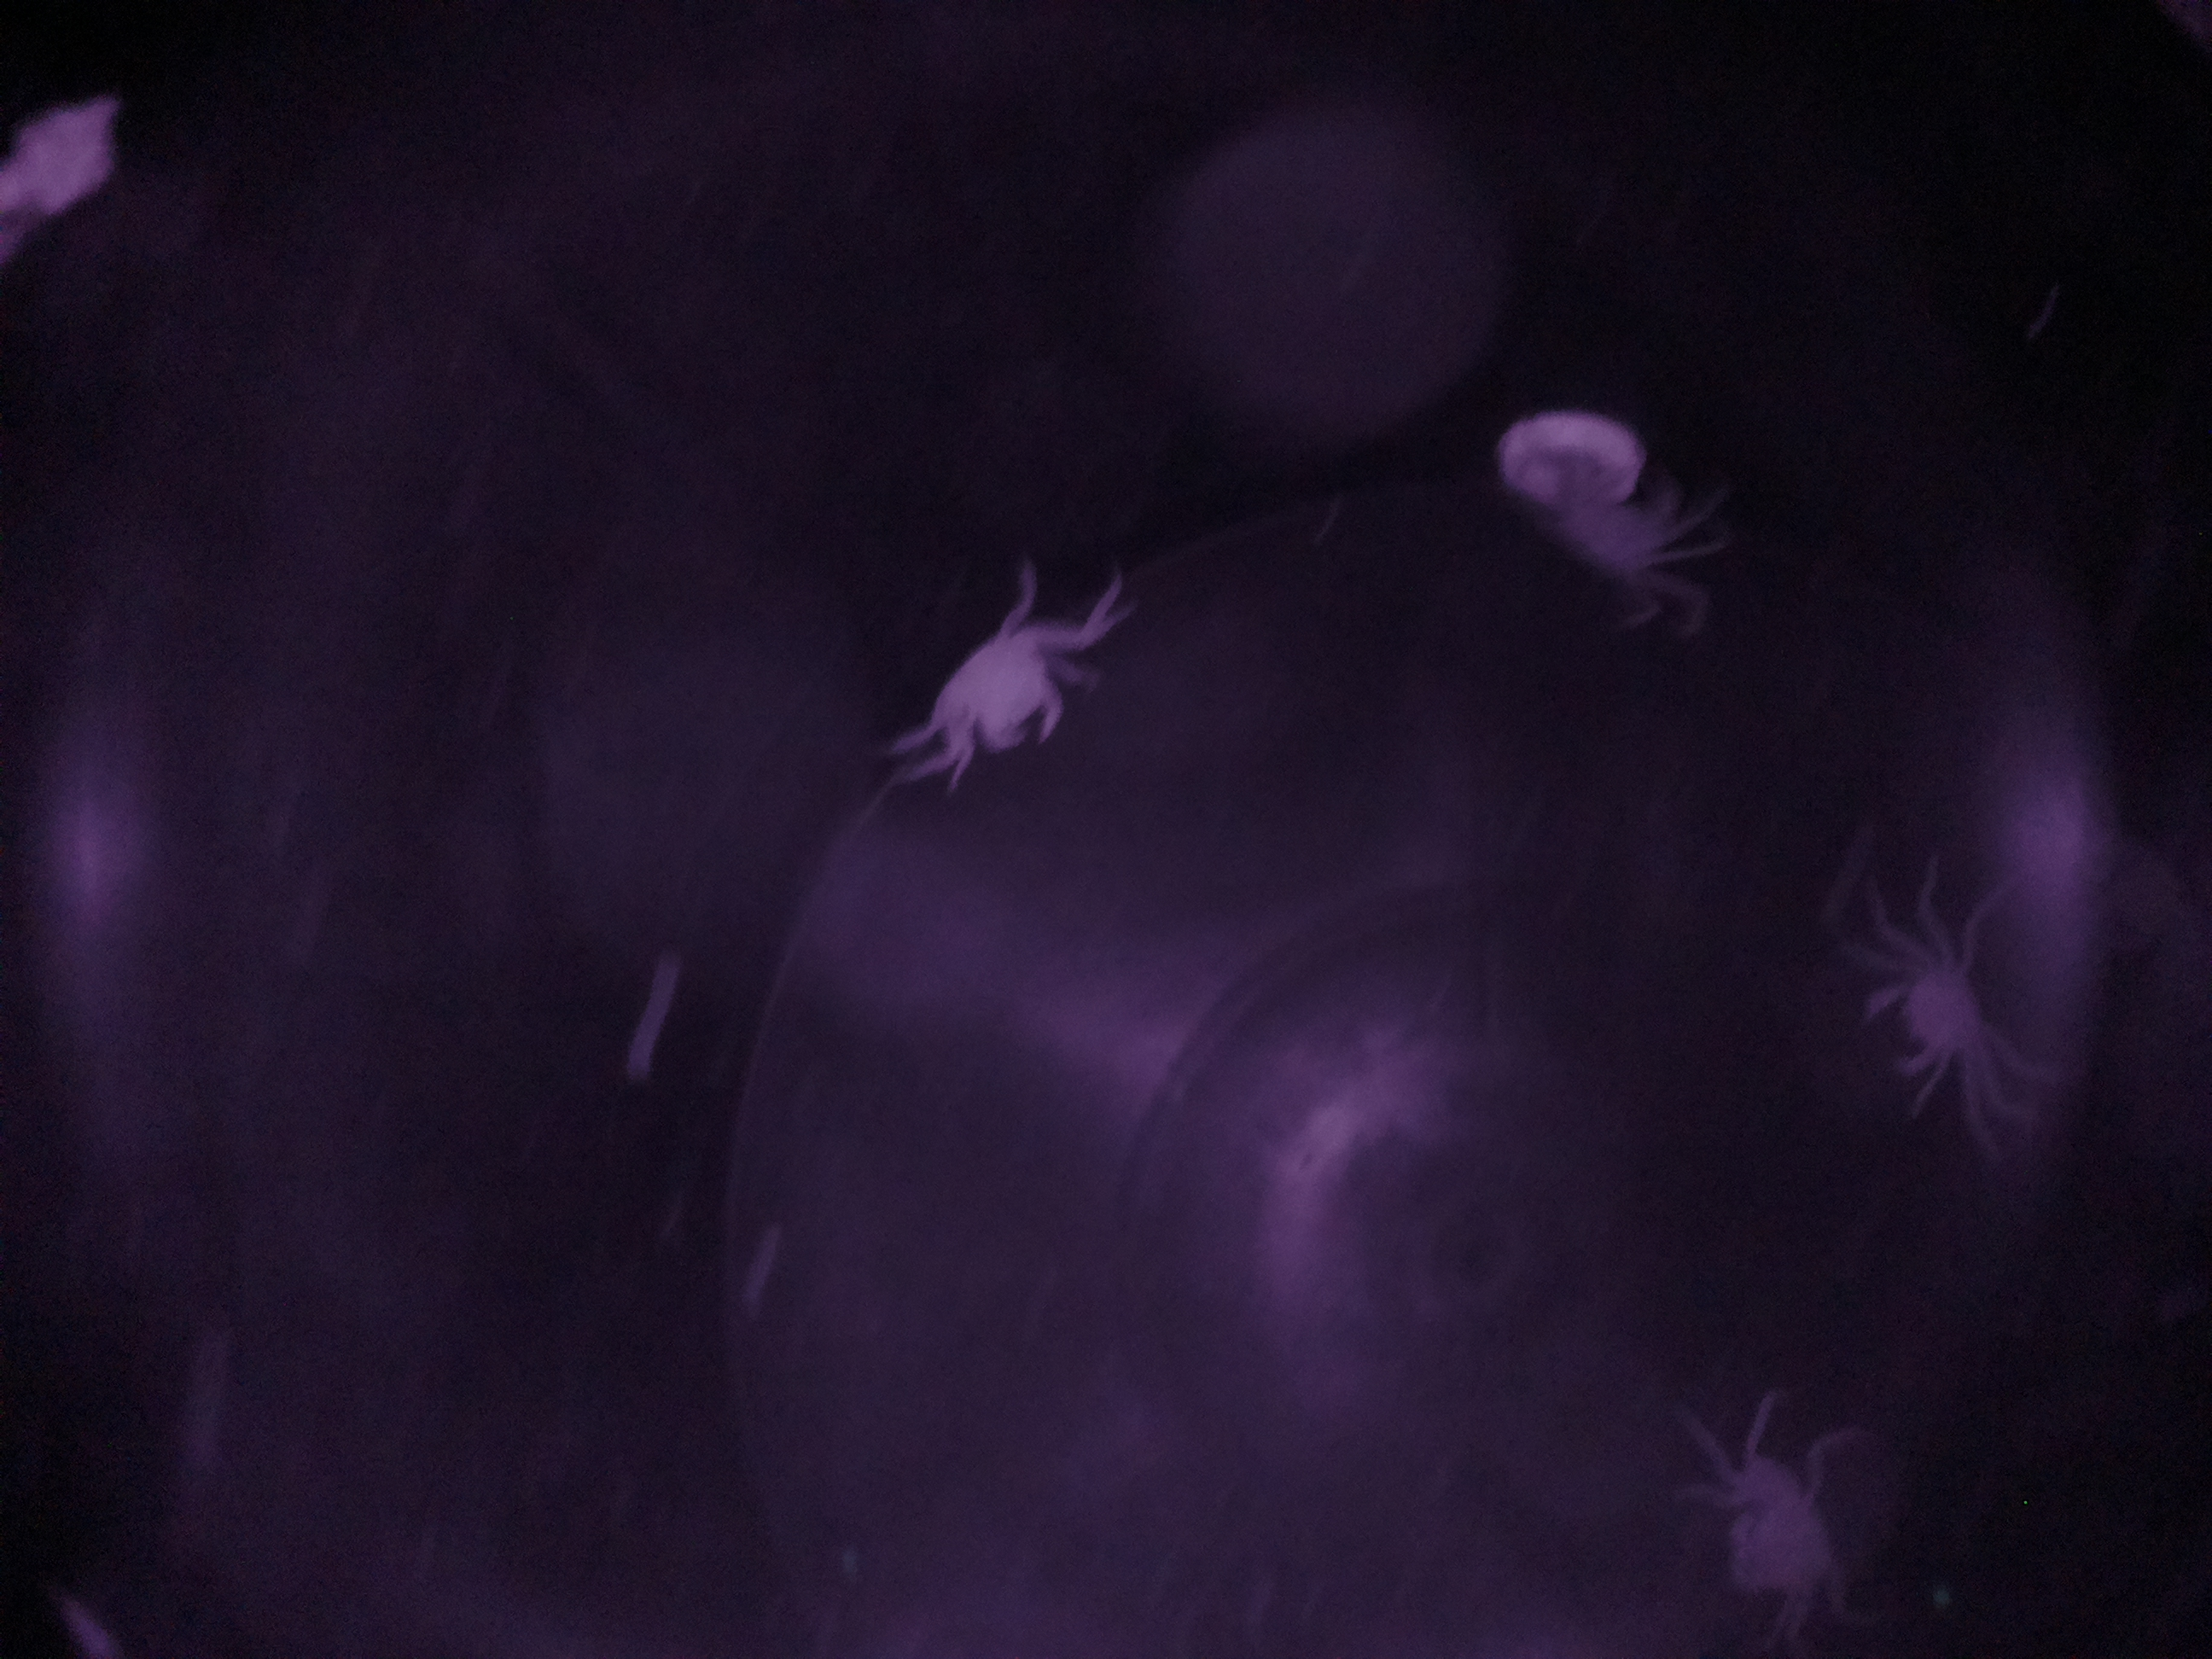Crab: (1834, 938, 2029, 1121)
